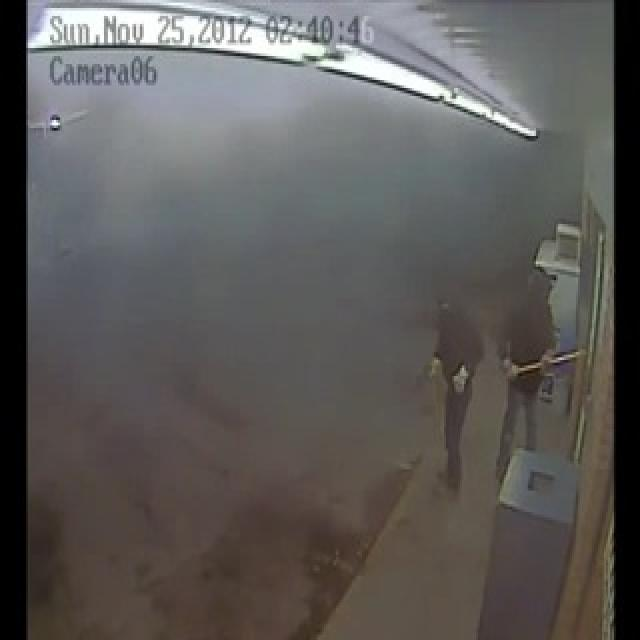thief: (496, 266, 563, 457), (434, 274, 479, 489)
